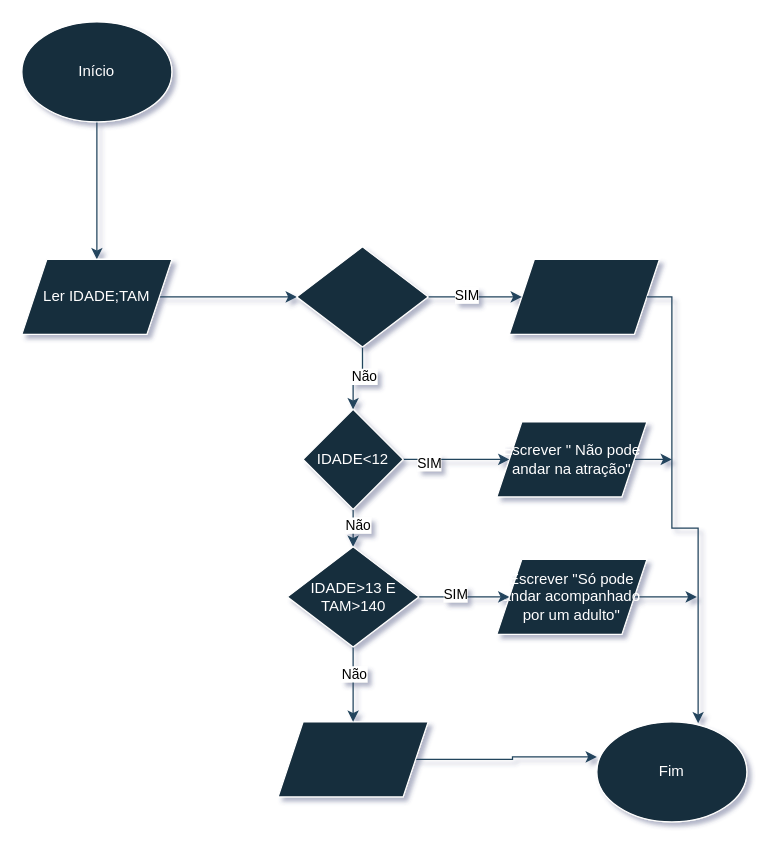
This 776x851 diagram has some shape labels left out. Each missing label, with the box of its shape:
Escrever " pode andar sozinho": (277, 721, 428, 797)
Escrever "dados inválidos": (508, 258, 659, 334)
IDADE<0 OU TAM<0: (296, 246, 428, 347)
